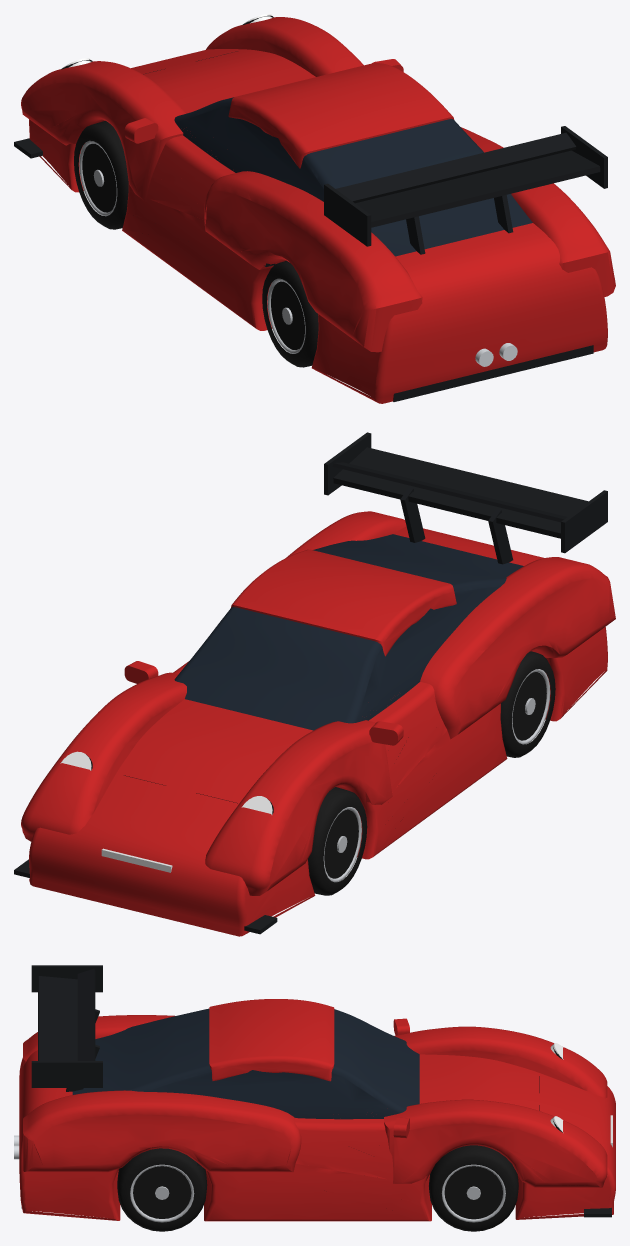
3 views of the same model, one above another, from view 1: azimuth 30°, elevation 25°; view 2: azimuth 150°, elevation 25°; view 3: azimuth 270°, elevation 25° (orthographic). The views are drawn at different scales.
Parts seen in each view (by area): view 1: Body, Glass, Carbon, Tire_FL, Tire_RL, Rim_RL, Rim_FL, Chrome; view 2: Body, Glass, Carbon, Tire_FL, Tire_RL, Headlights; view 3: Body, Glass, Carbon, Tire_FR, Tire_RR, Rim_RR, Rim_FR.
Boxes of the visible parts, left/top/right/bottom form: Body: left=21, top=17, right=615, bottom=403; Glass: left=174, top=97, right=532, bottom=256; Carbon: left=14, top=126, right=607, bottom=401; Tire_FL: left=74, top=120, right=128, bottom=229; Tire_RL: left=262, top=260, right=318, bottom=367; Rim_RL: left=267, top=278, right=305, bottom=353; Rim_FL: left=79, top=140, right=117, bottom=216; Chrome: left=475, top=343, right=517, bottom=366; Body: left=21, top=511, right=615, bottom=936; Glass: left=174, top=534, right=523, bottom=730; Carbon: left=14, top=432, right=607, bottom=934; Tire_FL: left=308, top=787, right=367, bottom=895; Tire_RL: left=500, top=651, right=555, bottom=757; Headlights: left=60, top=751, right=272, bottom=814; Body: left=19, top=999, right=615, bottom=1221; Glass: left=72, top=1008, right=419, bottom=1119; Carbon: left=21, top=965, right=611, bottom=1217; Tire_FR: left=429, top=1145, right=518, bottom=1231; Tire_RR: left=117, top=1148, right=207, bottom=1231; Rim_RR: left=130, top=1164, right=194, bottom=1222; Rim_FR: left=441, top=1164, right=505, bottom=1222.
Bounding box in the file's own units: 2.05 × 1.48 × 4.73.
